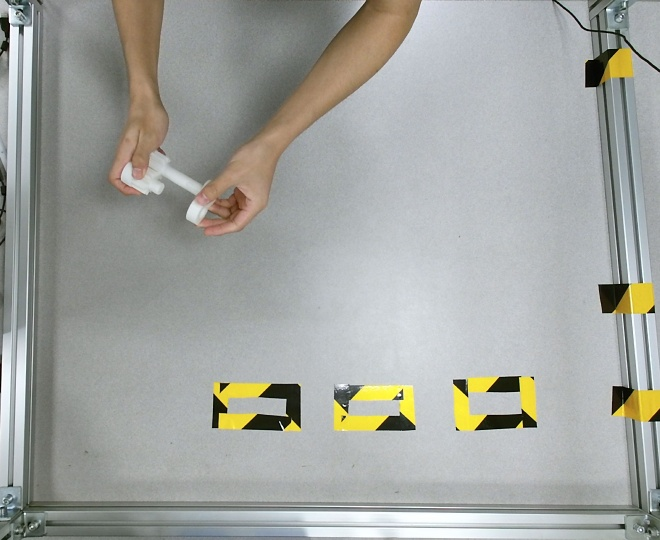stage_3: (120, 150, 205, 194)
